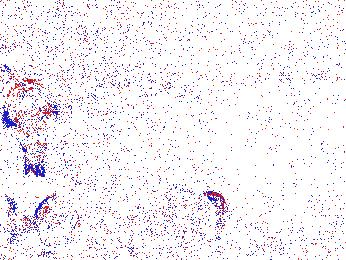flame jellyfish: (1, 83, 61, 178), (33, 195, 81, 250), (198, 190, 231, 235)
